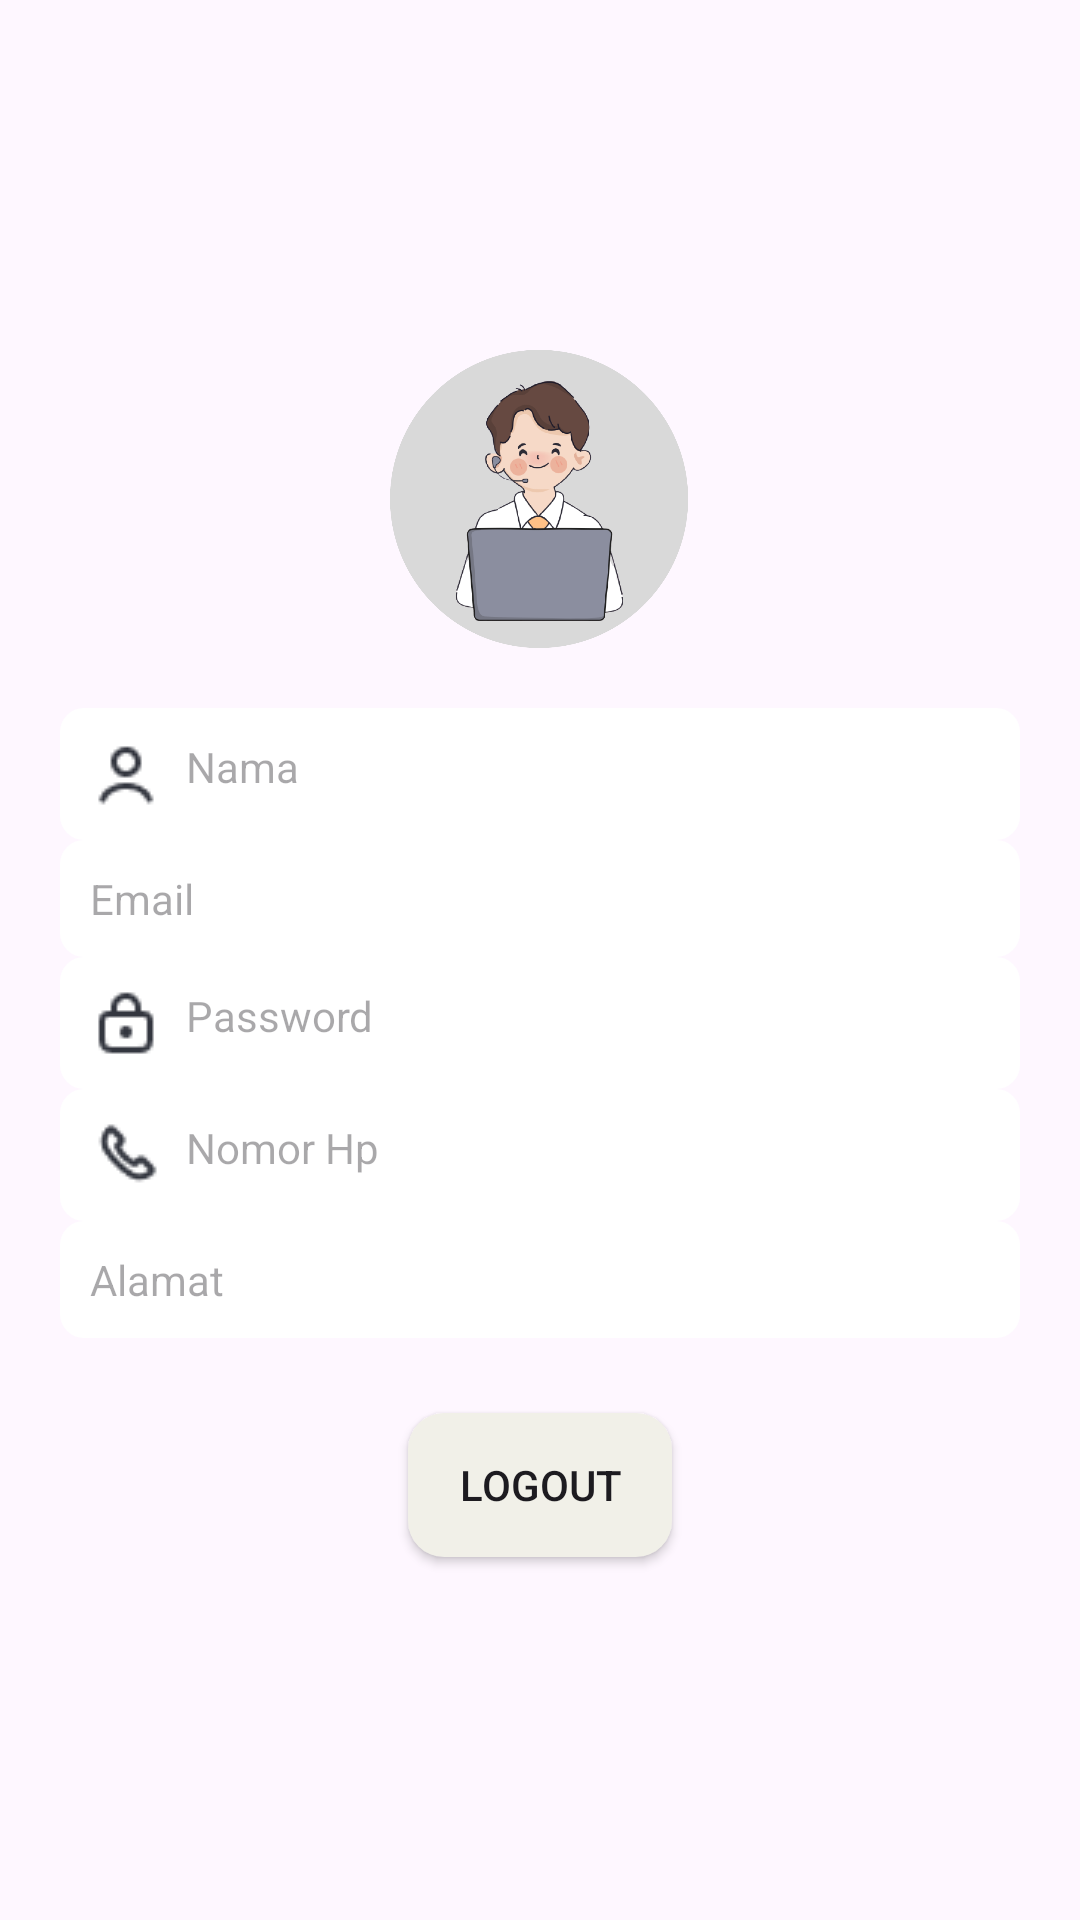

Named icons in this screenshot (1080×1920) and their bounding boxes, (x1, y1, x2, y2):
profile: (390, 350, 688, 648)
